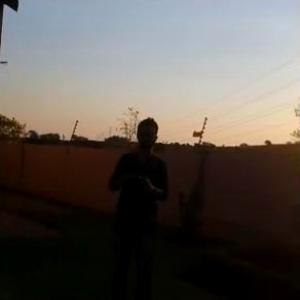follow: (100, 111, 178, 299)
